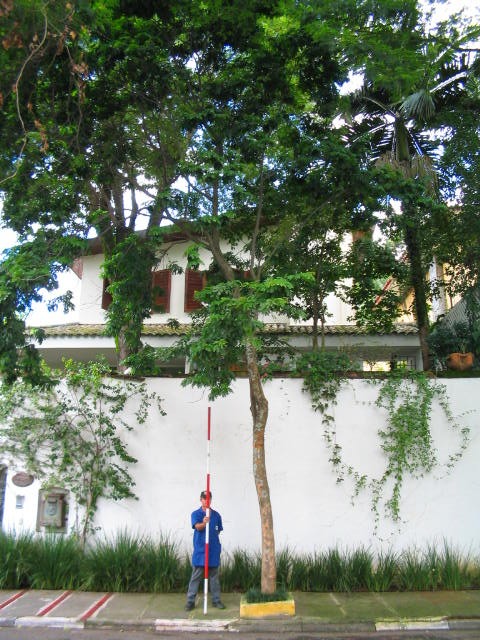crown: (3, 18, 444, 407)
stem: (238, 421, 292, 594)
stick: (200, 406, 215, 613)
tree: (1, 17, 445, 593)
